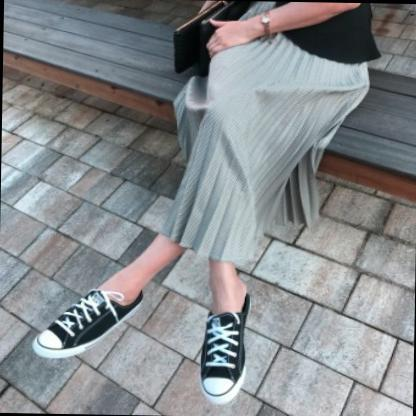no_safety-shoe: (26, 293, 139, 370), (196, 296, 253, 402)
